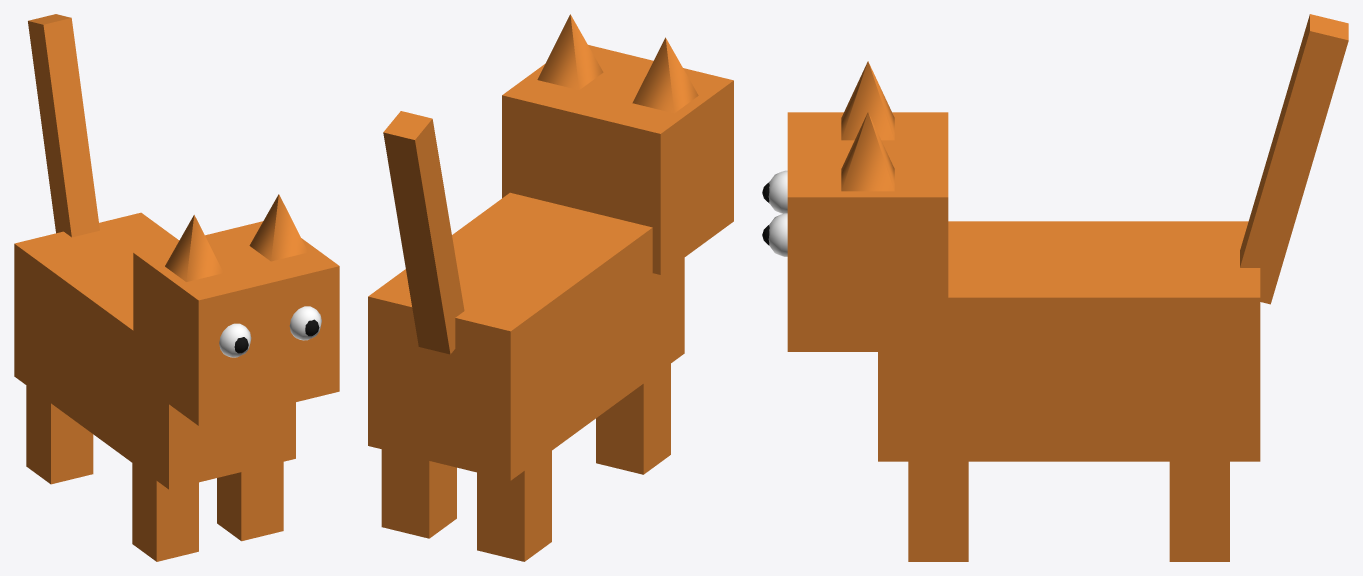
File: pet_cat.glb
The picture shows the model from 3 angles, left to right: view 1: azimuth 30°, elevation 25°; view 2: azimuth 150°, elevation 25°; view 3: azimuth 270°, elevation 25°; orthographic projection. The views are drawn at different scales.
Visible parts, largest first — view 1: pet_cat, head, tail; view 2: pet_cat, head, tail; view 3: pet_cat, head, tail.
Part boxes in pixels (x1,y1,x2,y2): pet_cat: (14,212,295,561); head: (133,194,339,425); tail: (28,14,99,237); pet_cat: (368,192,684,561); head: (502,14,733,274); tail: (383,111,464,354); pet_cat: (878,221,1260,561); head: (762,61,948,351); tail: (1240,14,1348,304).
Size of the model in its own units: 0.2 by 0.5501 by 0.5834.
